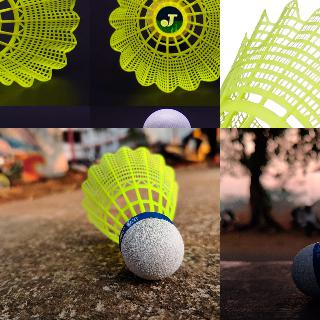shuttlecock: (81, 144, 183, 280), (220, 0, 319, 127), (108, 0, 219, 93), (0, 0, 79, 88), (292, 166, 319, 311)
